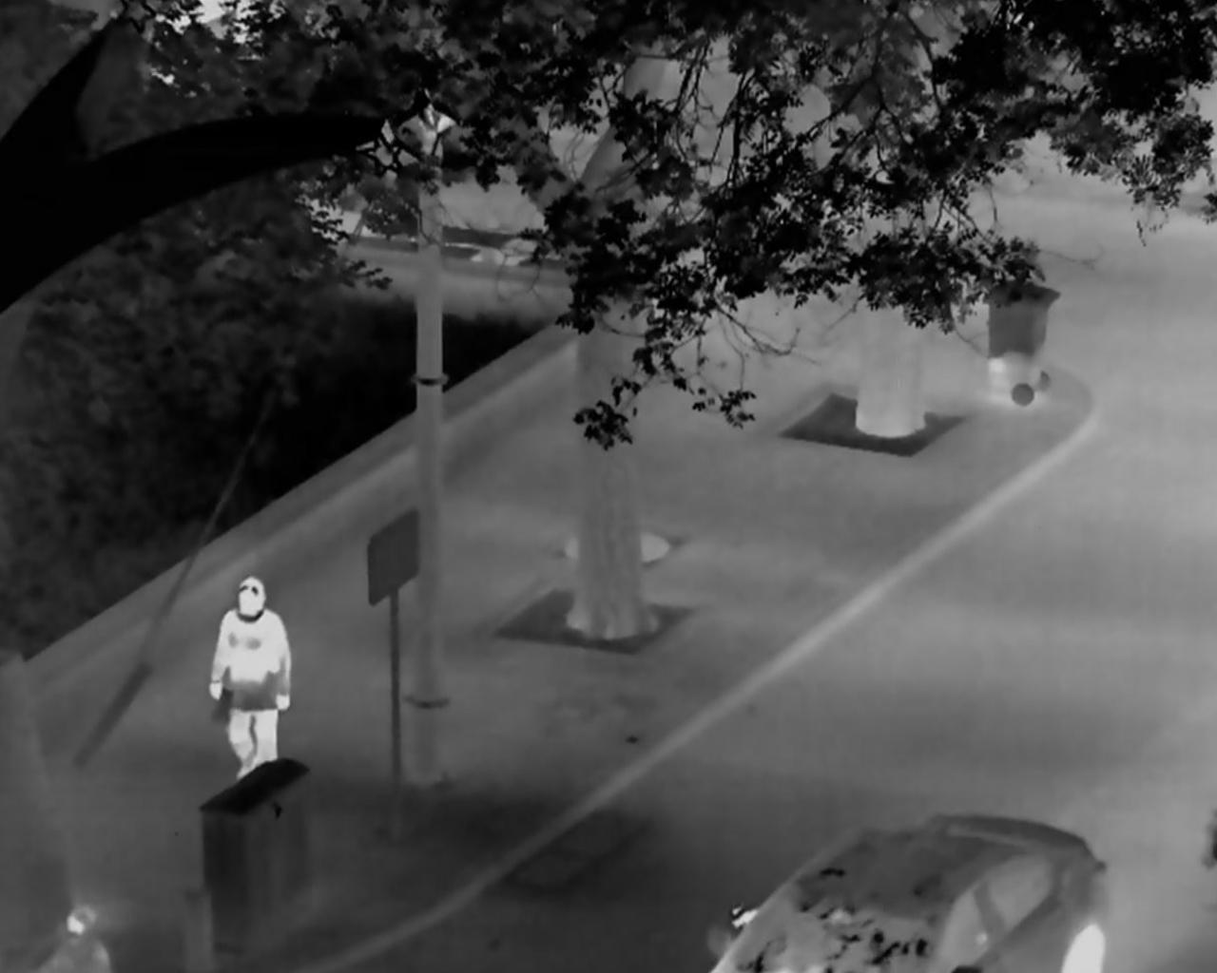person: (208, 574, 293, 779), (31, 899, 110, 973)
